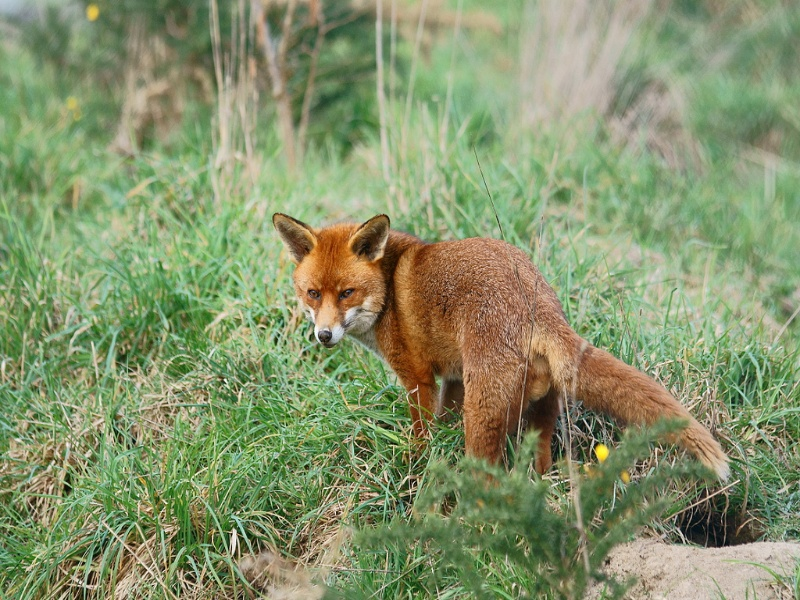fox: (264, 201, 739, 533)
